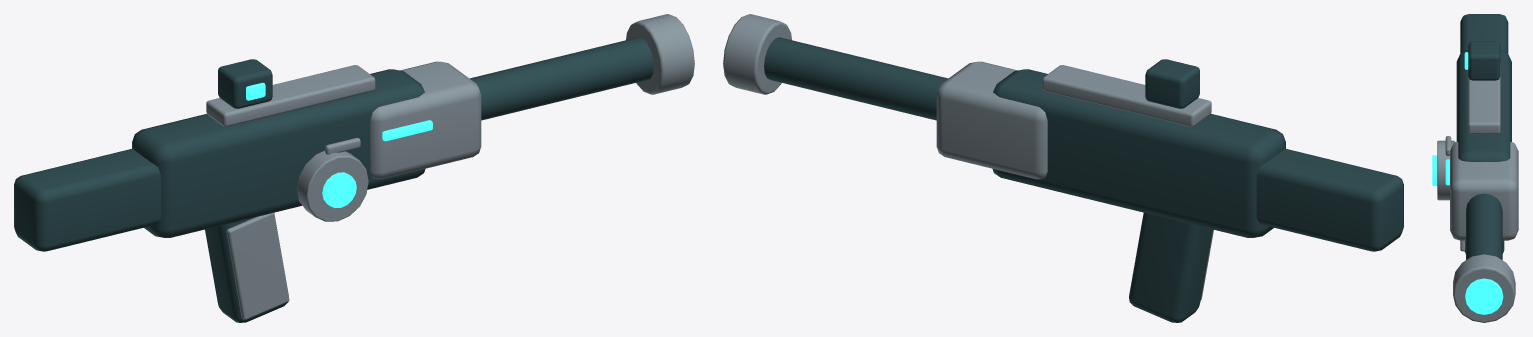
Rendered from SM_Ridgefire_ViewModel.fbx.
The picture shows the model from 3 angles, left to right: view 1: azimuth 30°, elevation 25°; view 2: azimuth 150°, elevation 25°; view 3: azimuth 270°, elevation 25°; orthographic projection. The views are drawn at different scales.
Parts seen in each view (by area): view 1: SM_Ridgefire_ViewModel; view 2: SM_Ridgefire_ViewModel; view 3: SM_Ridgefire_ViewModel.
Part boxes in pixels (x1,y1,x2,y2): SM_Ridgefire_ViewModel: [14, 14, 694, 322]; SM_Ridgefire_ViewModel: [723, 14, 1403, 322]; SM_Ridgefire_ViewModel: [1432, 14, 1518, 322].
Size of the model in its own units: 86.5 by 31.02 by 11.8.
